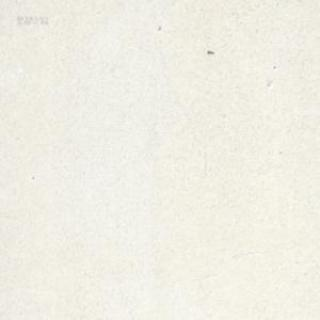Nailtrack_idkeyframe: (206, 48, 213, 53)
